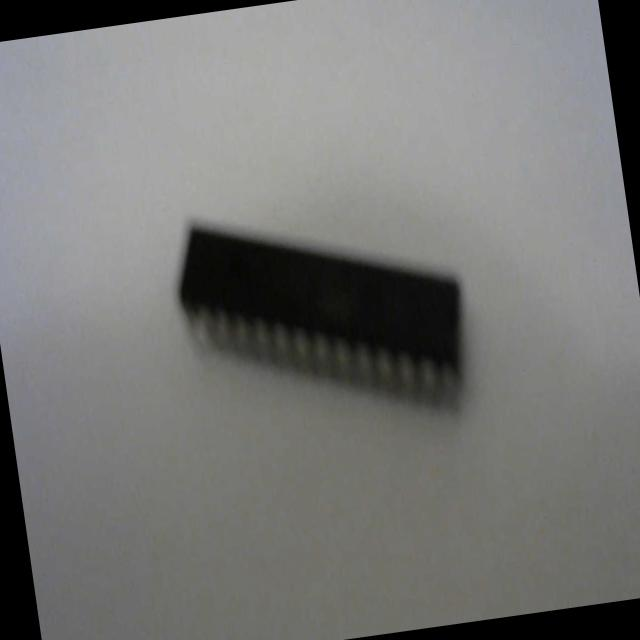atmega: (165, 180, 480, 450)
